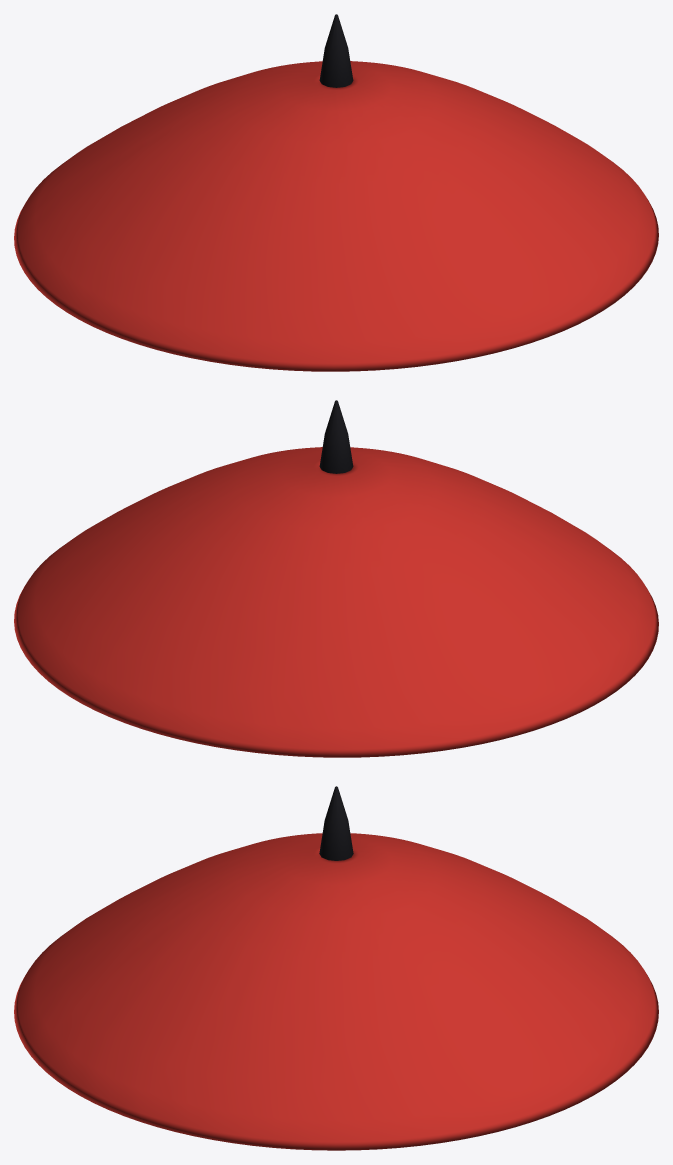
Rendered from hw_salakot.glb.
3 views of the same model, one above another, from view 1: azimuth 30°, elevation 25°; view 2: azimuth 150°, elevation 25°; view 3: azimuth 270°, elevation 25° (orthographic).
Visible parts, largest first — view 1: hw_salakot, hw_salakot_spike; view 2: hw_salakot, hw_salakot_spike; view 3: hw_salakot, hw_salakot_spike.
Boxes of the visible parts, <box> form: hw_salakot: <box>14,61,658,371</box>; hw_salakot_spike: <box>319,14,353,87</box>; hw_salakot: <box>14,447,658,757</box>; hw_salakot_spike: <box>319,400,353,473</box>; hw_salakot: <box>14,833,658,1150</box>; hw_salakot_spike: <box>319,786,353,860</box>.
Bounding box in the file's own units: 1.11 × 0.4202 × 1.09.
